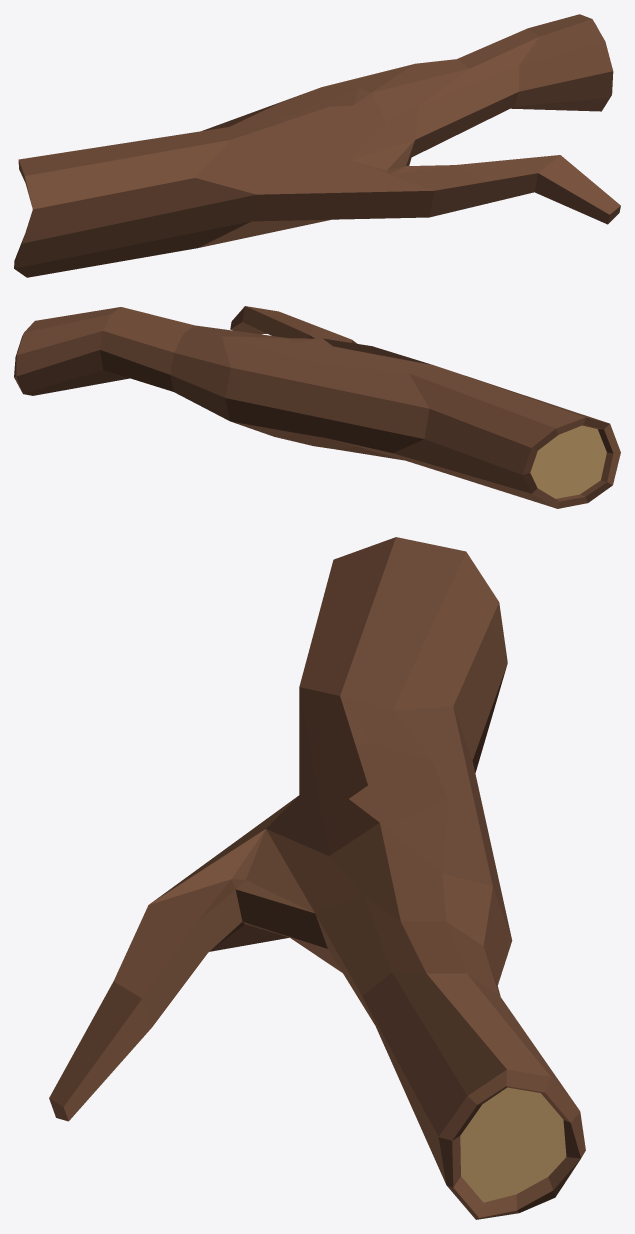
File: WoodLog_02.fbx
3 renders of one model, top to bottom at view 1: azimuth 30°, elevation 25°; view 2: azimuth 150°, elevation 25°; view 3: azimuth 270°, elevation 25°, orthographic. The views are drawn at different scales.
Visible parts, largest first — view 1: WoodLog_02; view 2: WoodLog_02; view 3: WoodLog_02.
Boxes of the visible parts, left/top/right/bottom form: WoodLog_02: left=14, top=14, right=620, bottom=277; WoodLog_02: left=14, top=306, right=620, bottom=508; WoodLog_02: left=49, top=537, right=585, bottom=1219.
Size of the model in its own units: 161 by 26.52 by 68.64.
1 material, 1 textured.
